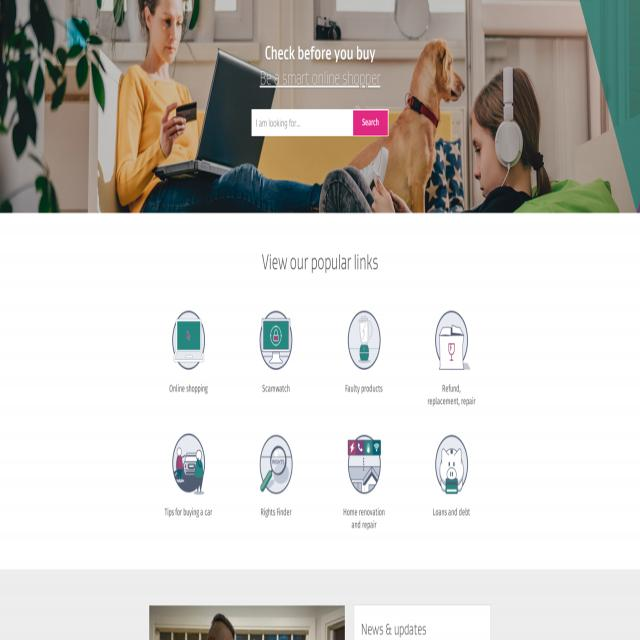button: (150, 606, 344, 640), (355, 604, 491, 639), (169, 305, 208, 375), (432, 305, 471, 375), (169, 429, 208, 499), (432, 429, 471, 499), (257, 305, 295, 375), (345, 305, 383, 375), (257, 429, 295, 499), (345, 429, 383, 499), (354, 110, 388, 136)
field: (252, 110, 354, 136)
